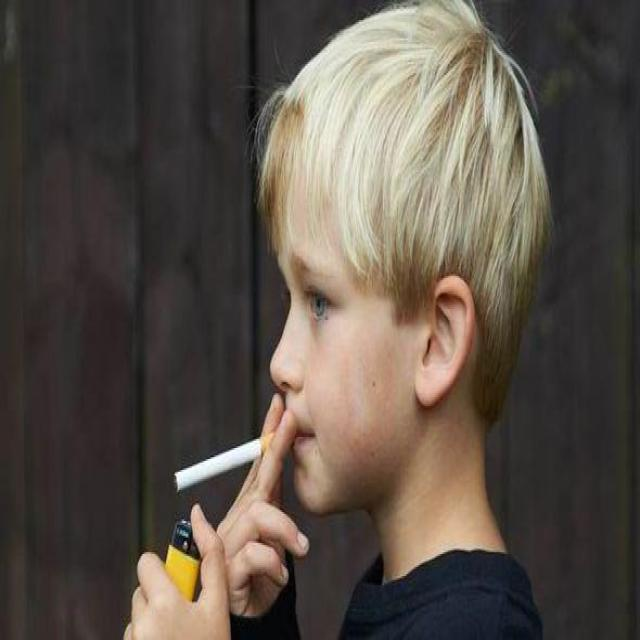cigarette: (167, 428, 280, 495)
